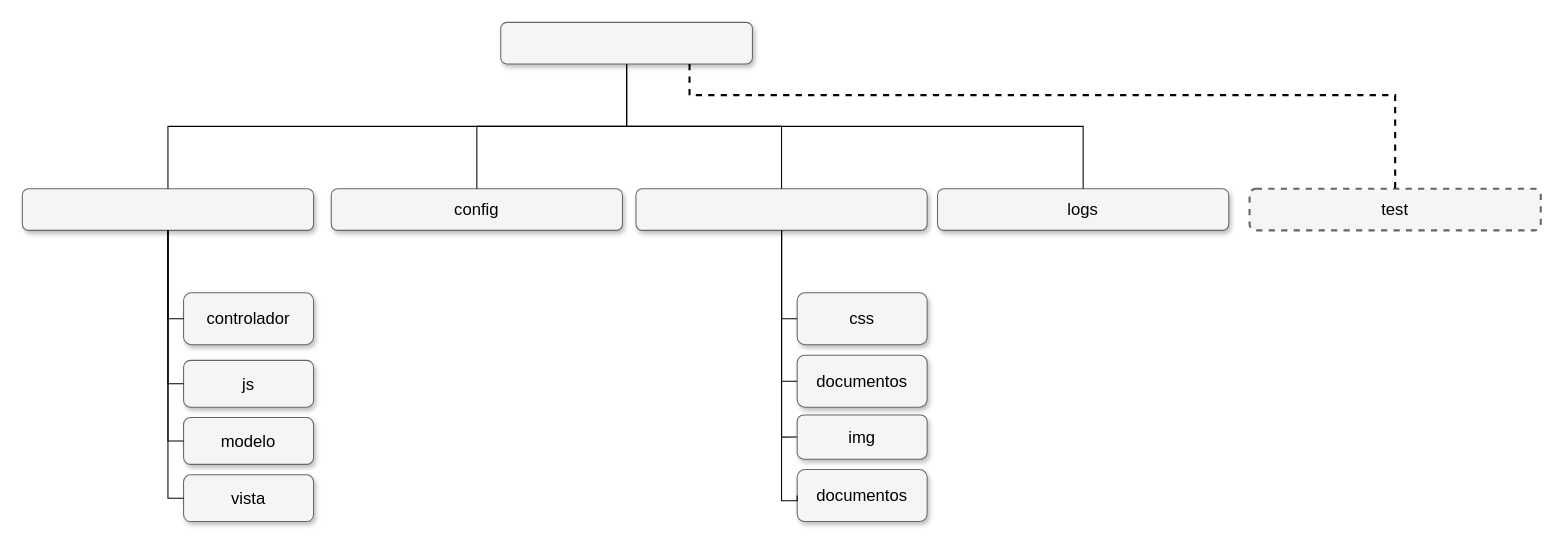
Some shapes in this 1560 by 547 pixel diagram are drawn without their labels. Here are the shapes that lost their labels. From the top down, the centre of each, then its label:
At pixel 627 44: "Tempus".
At pixel 168 211: "app".
At pixel 782 211: "lib".
